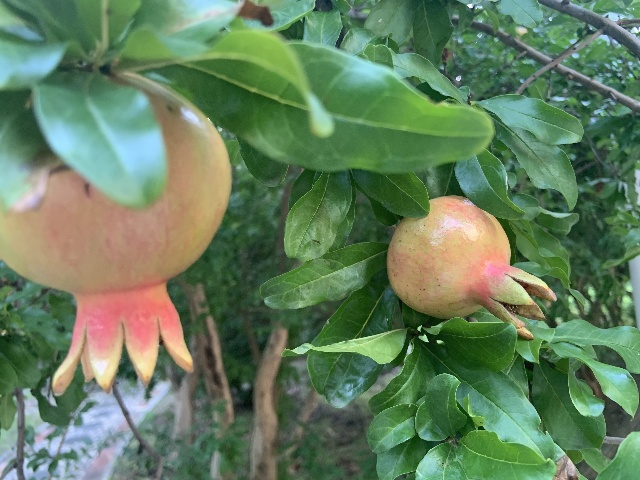mid-growth: (0, 73, 232, 395), (385, 194, 557, 340)
